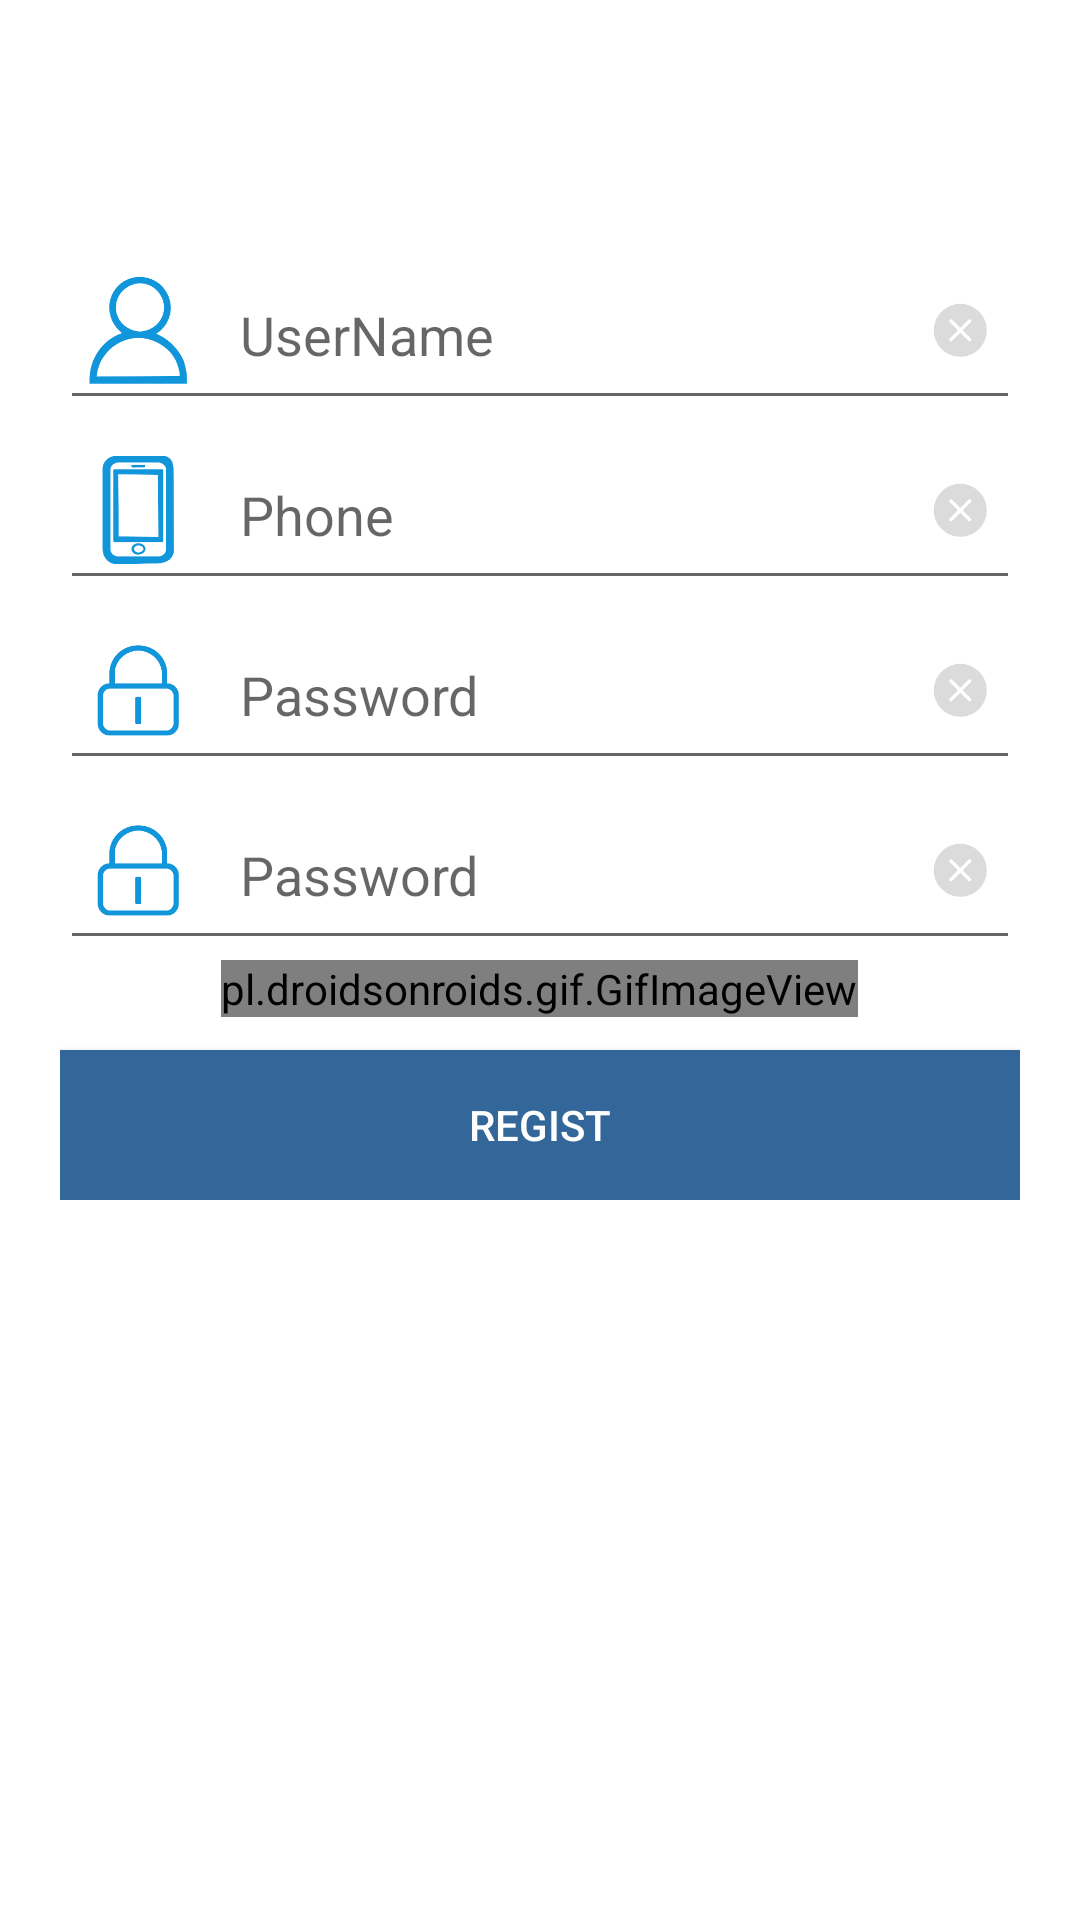

Named icons in this screenshot (1080 x 1920) and their bounding boxes, (x1, y1, x2, y2):
clear: (934, 304, 987, 357), (934, 484, 987, 537), (934, 664, 987, 717), (934, 844, 987, 897)
